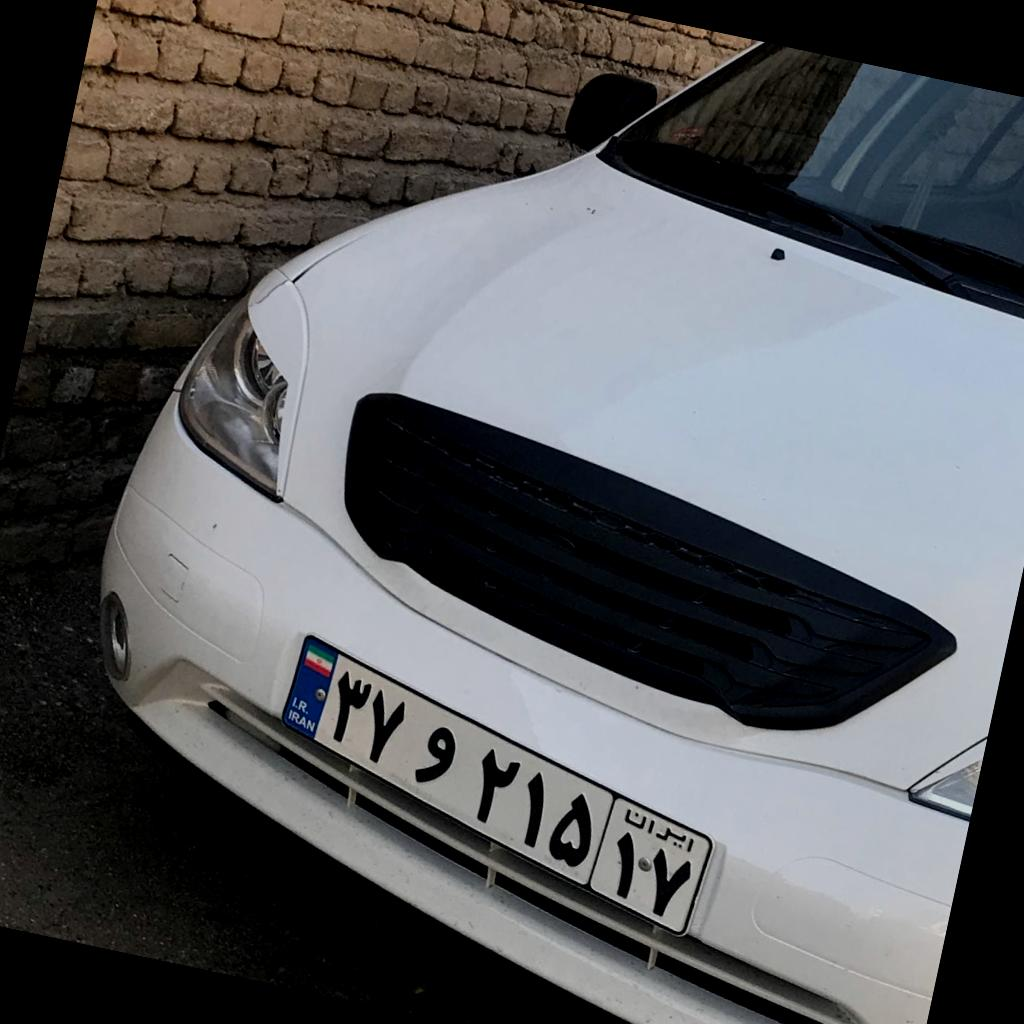Plates: (280, 633, 712, 937)
